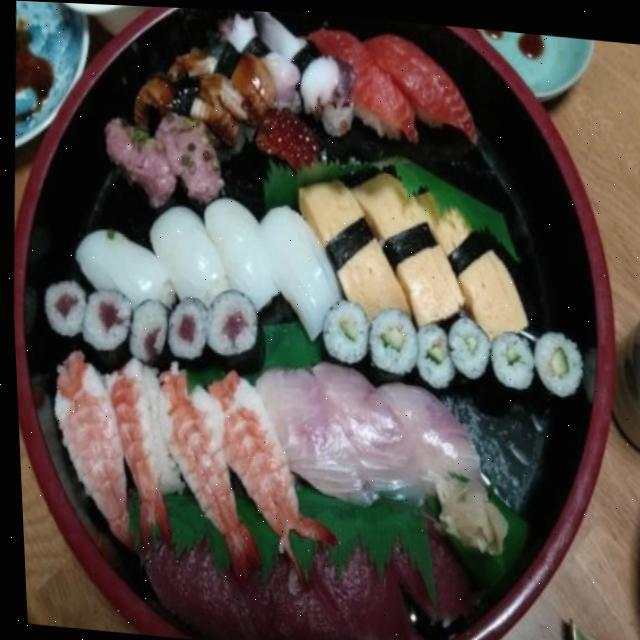寿司卷物: (0, 0, 637, 640)
